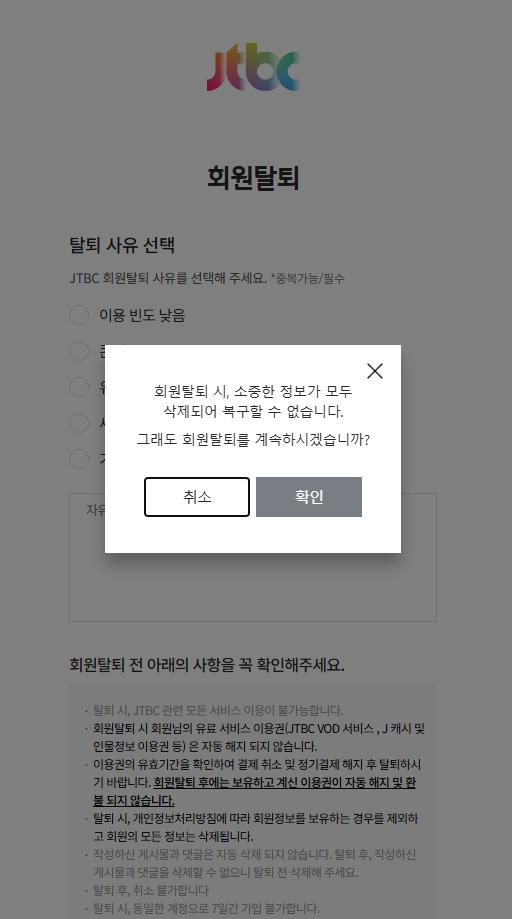button: (259, 473, 362, 519), (146, 474, 250, 516), (353, 349, 394, 393)
checkbox: (57, 293, 200, 333)
popup: (101, 342, 407, 554)
